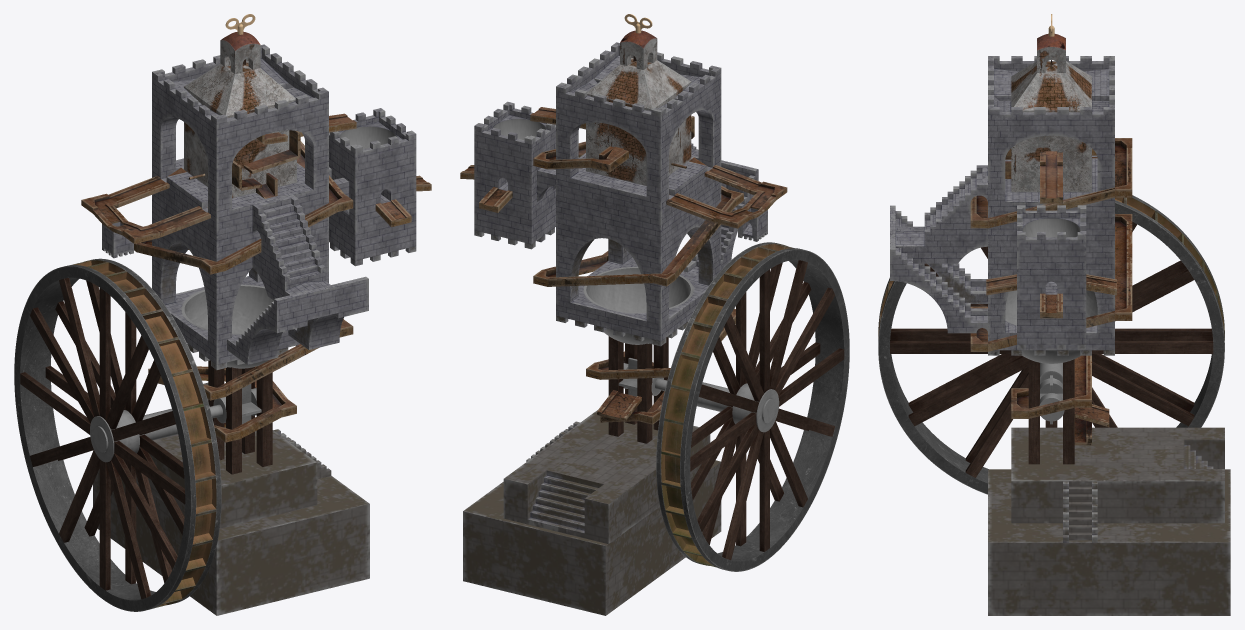
Rendered from marbleTower.gltf.
3 views of the same model, side by side, from view 1: azimuth 30°, elevation 25°; view 2: azimuth 150°, elevation 25°; view 3: azimuth 270°, elevation 25° (orthographic). The views are drawn at different scales.
Visible parts, largest first — view 1: tower, wheel, track, supports; view 2: tower, wheel, track, supports; view 3: tower, wheel, track, supports.
Part boxes in pixels (box(x1,y1,x2,y2)): tower: box(93, 31, 416, 615); wheel: box(14, 258, 261, 611); track: box(81, 113, 431, 442); supports: box(208, 360, 272, 474); tower: box(463, 30, 767, 615); wheel: box(618, 242, 849, 571); track: box(460, 107, 787, 424); supports: box(608, 336, 668, 443); tower: box(890, 33, 1230, 615); wheel: box(878, 195, 1224, 494); track: box(970, 138, 1132, 445); supports: box(1028, 359, 1074, 464).
Bounding box in the file's own units: 31.9 × 52.61 × 30.5.
Materials: 3 (3 with a texture image).
